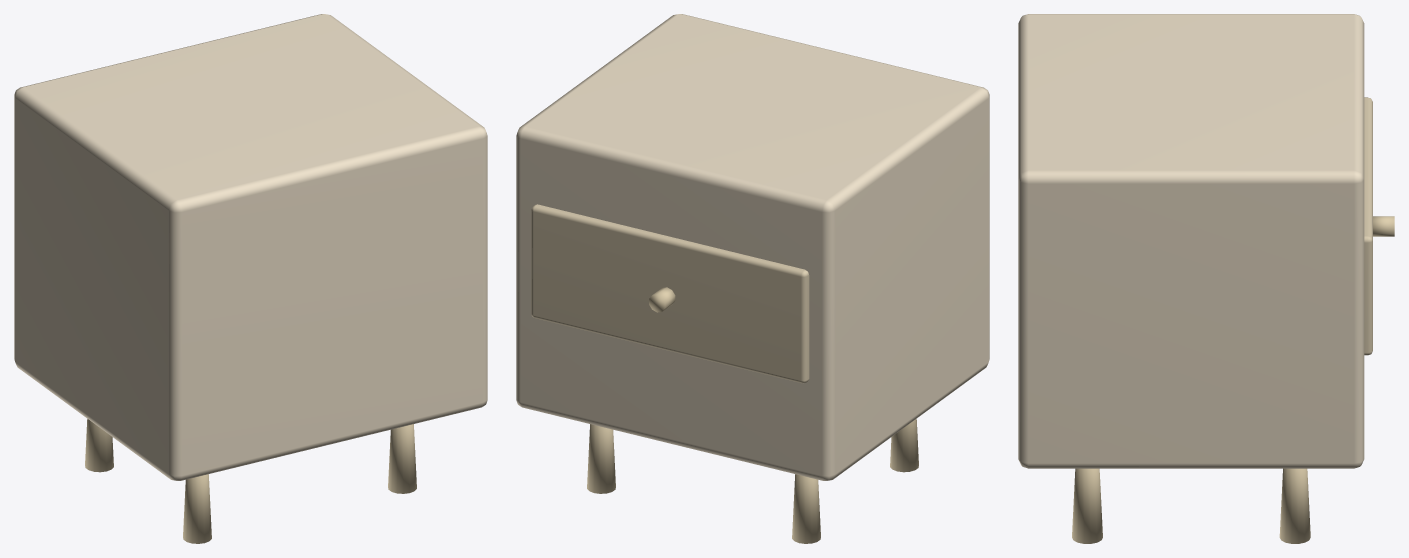
The model's file is nightstand.glb.
3 views of the same model, side by side, from view 1: azimuth 30°, elevation 25°; view 2: azimuth 150°, elevation 25°; view 3: azimuth 270°, elevation 25° (orthographic). The views are drawn at different scales.
Parts seen in each view (by area): view 1: body; view 2: body; view 3: body.
Part boxes in pixels (left/top/right/bottom): body: left=14, top=14, right=487, bottom=543; body: left=516, top=14, right=989, bottom=543; body: left=1018, top=14, right=1394, bottom=543.
Size of the model in its own units: 0.45 by 0.5 by 0.435.
